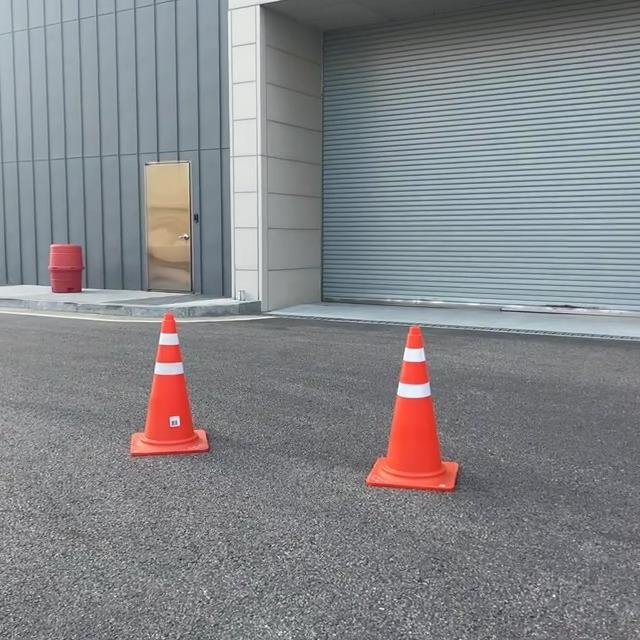fallen_object: (330, 306, 482, 525), (73, 309, 228, 477)
